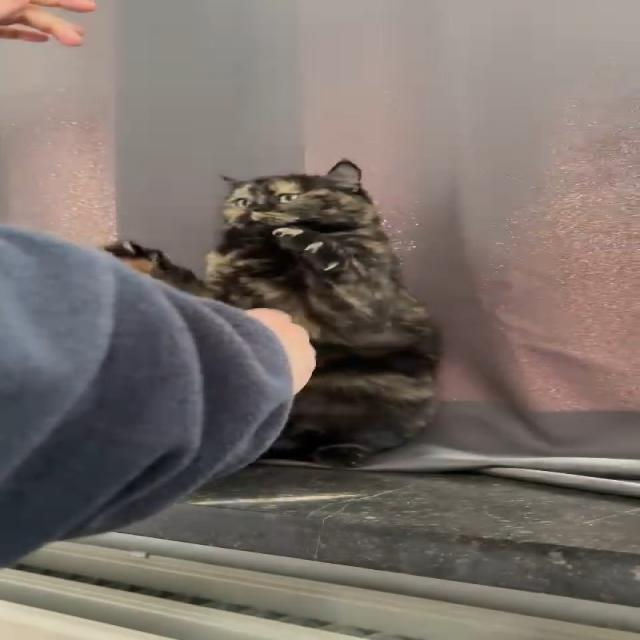authorized: (101, 158, 444, 467)
